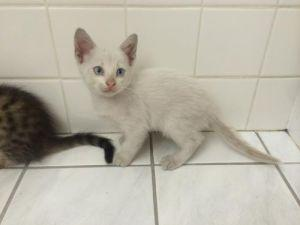siamese: (70, 25, 144, 105)
